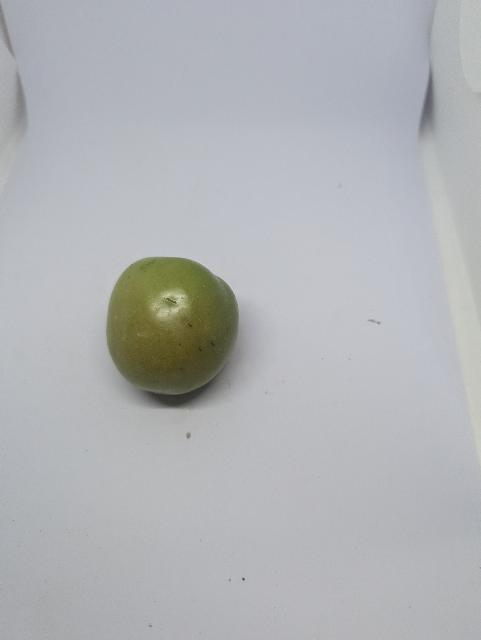green: (87, 249, 255, 398)
